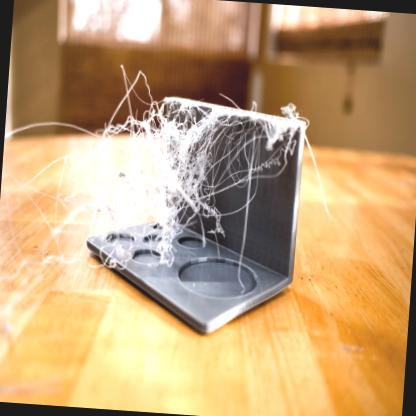fail: (92, 85, 259, 267), (261, 87, 309, 189)
